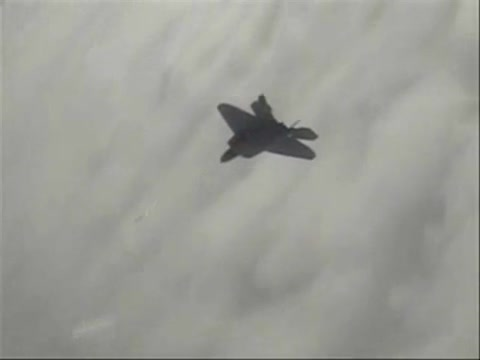aeroplane: (216, 93, 321, 164)
